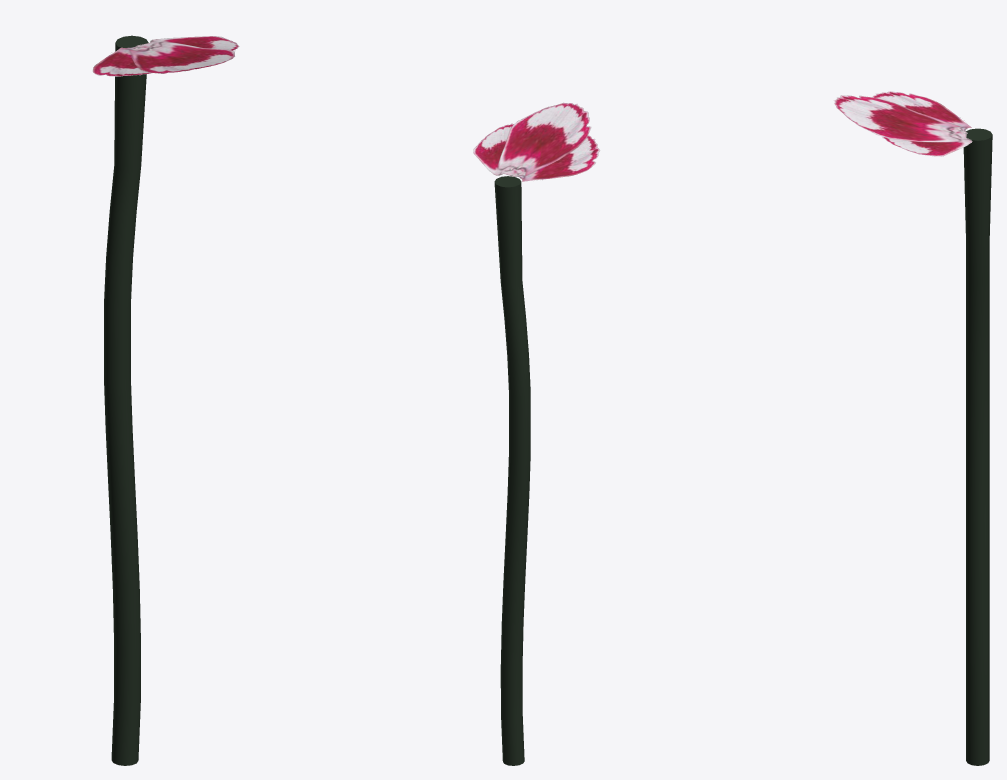
File: oeillet.fbx
The picture shows the model from 3 angles, left to right: view 1: azimuth 30°, elevation 25°; view 2: azimuth 150°, elevation 25°; view 3: azimuth 270°, elevation 25°; orthographic projection. The views are drawn at different scales.
Visible parts, largest first — view 1: tige, o_petale, o_petale1; view 2: tige, o_petale, o_petale1; view 3: tige, o_petale, o_petale1.
Part boxes in pixels (x1=…): tige: x1=104, y1=35, x2=148, y2=765; o_petale: x1=92, y1=36, x2=239, y2=76; o_petale1: x1=93, y1=36, x2=238, y2=75; tige: x1=494, y1=176, x2=530, y2=765; o_petale: x1=473, y1=102, x2=600, y2=181; o_petale1: x1=473, y1=103, x2=598, y2=181; tige: x1=963, y1=128, x2=992, y2=765; o_petale: x1=833, y1=91, x2=972, y2=156; o_petale1: x1=835, y1=91, x2=971, y2=156.
Bounding box in the file's own units: 0.0215 × 0.0698 × 0.0228.
Materials: 1 (1 with a texture image).
